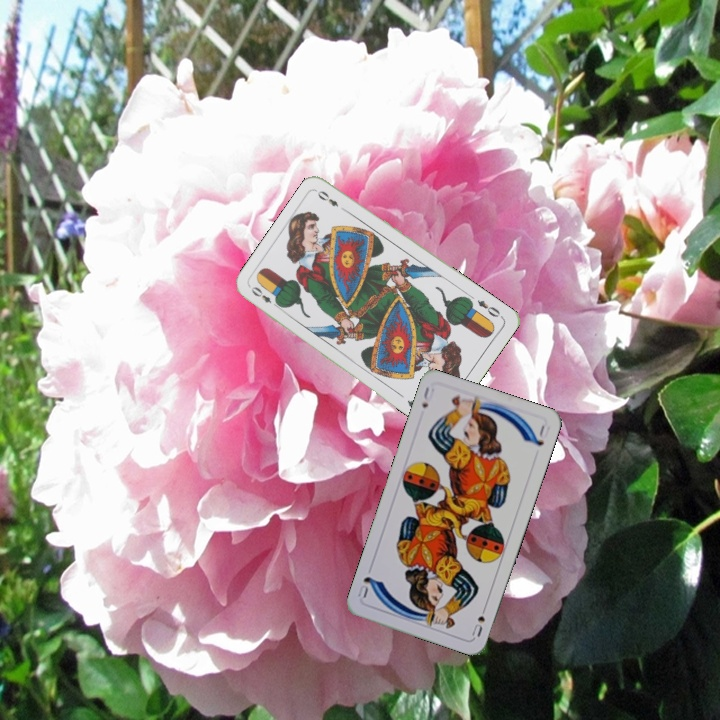EO: (247, 282, 283, 311), (473, 296, 503, 320)
SU: (468, 601, 490, 639), (418, 382, 437, 411)
